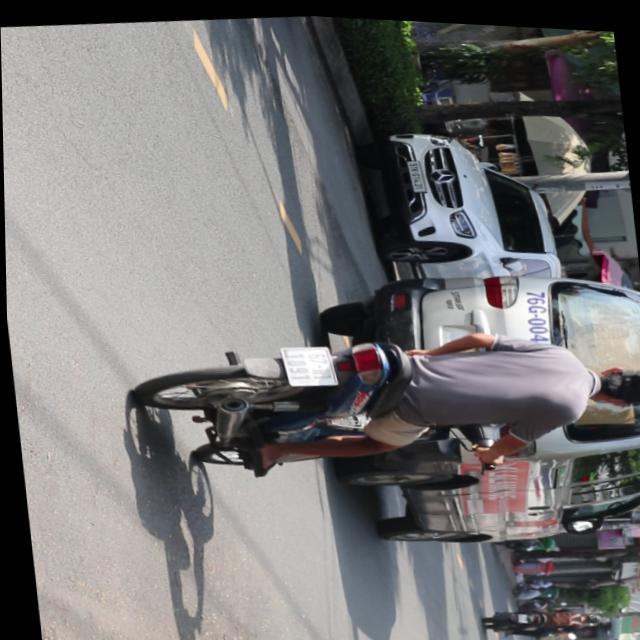licenseplate: (122, 289, 640, 500)
motorcyclist: (584, 354, 640, 403)
nohelmet: (279, 340, 333, 386)
